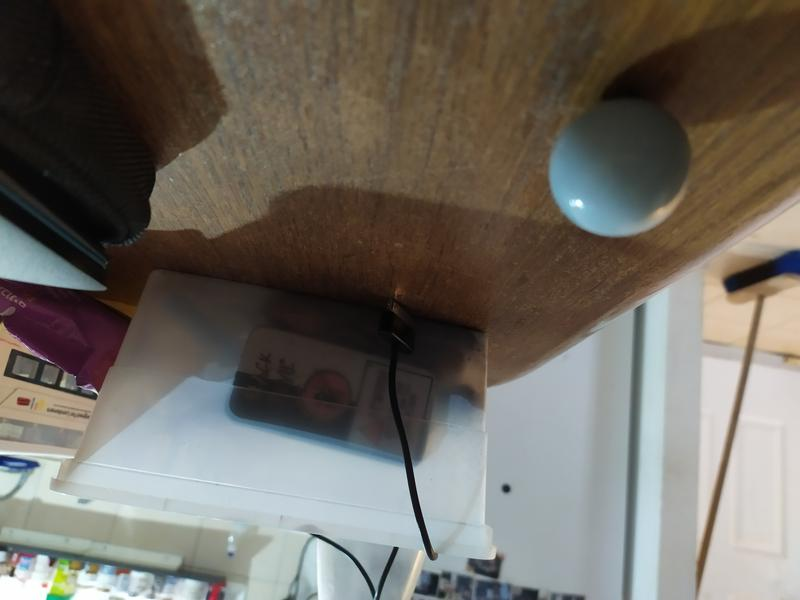Warning: (545, 93, 697, 241)
